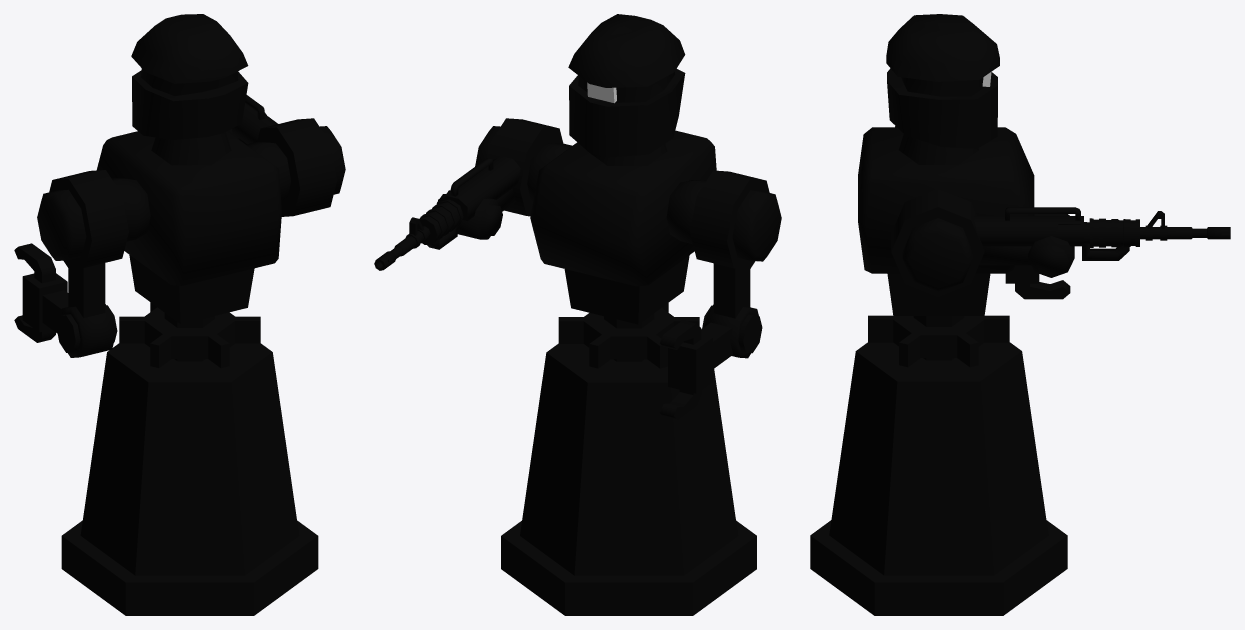
The model's file is Turel.fbx.
3 views of the same model, side by side, from view 1: azimuth 30°, elevation 25°; view 2: azimuth 150°, elevation 25°; view 3: azimuth 270°, elevation 25° (orthographic).
Visible parts, largest first — view 1: Robot 1lvl 3V1, Robot 1lvl 3V2; view 2: Robot 1lvl 3V1, Robot 1lvl 3V2; view 3: Robot 1lvl 3V2, Robot 1lvl 3V1.
Boxes of the visible parts, bbox=[...] form: Robot 1lvl 3V1: bbox=[14, 14, 345, 367]; Robot 1lvl 3V2: bbox=[61, 313, 318, 615]; Robot 1lvl 3V1: bbox=[374, 14, 781, 419]; Robot 1lvl 3V2: bbox=[501, 313, 756, 615]; Robot 1lvl 3V2: bbox=[810, 316, 1067, 615]; Robot 1lvl 3V1: bbox=[858, 14, 1230, 367].
Bounding box in the file's own units: 1.06 × 1.38 × 1.96.
